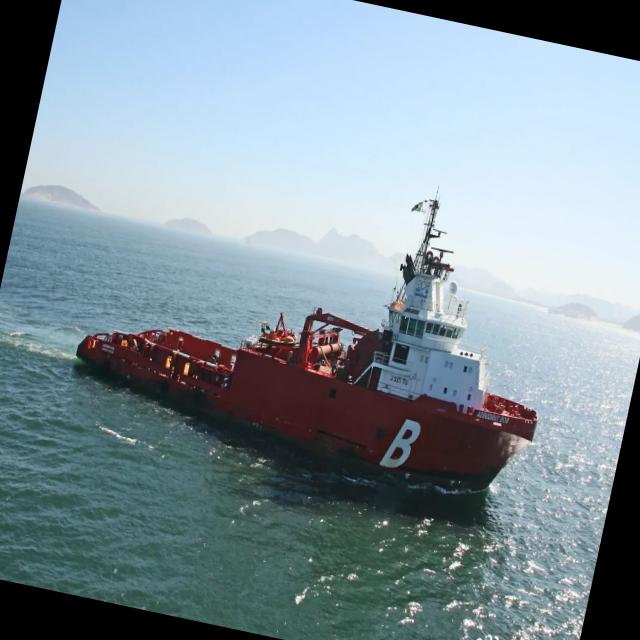Offshore: (76, 198, 538, 489)
